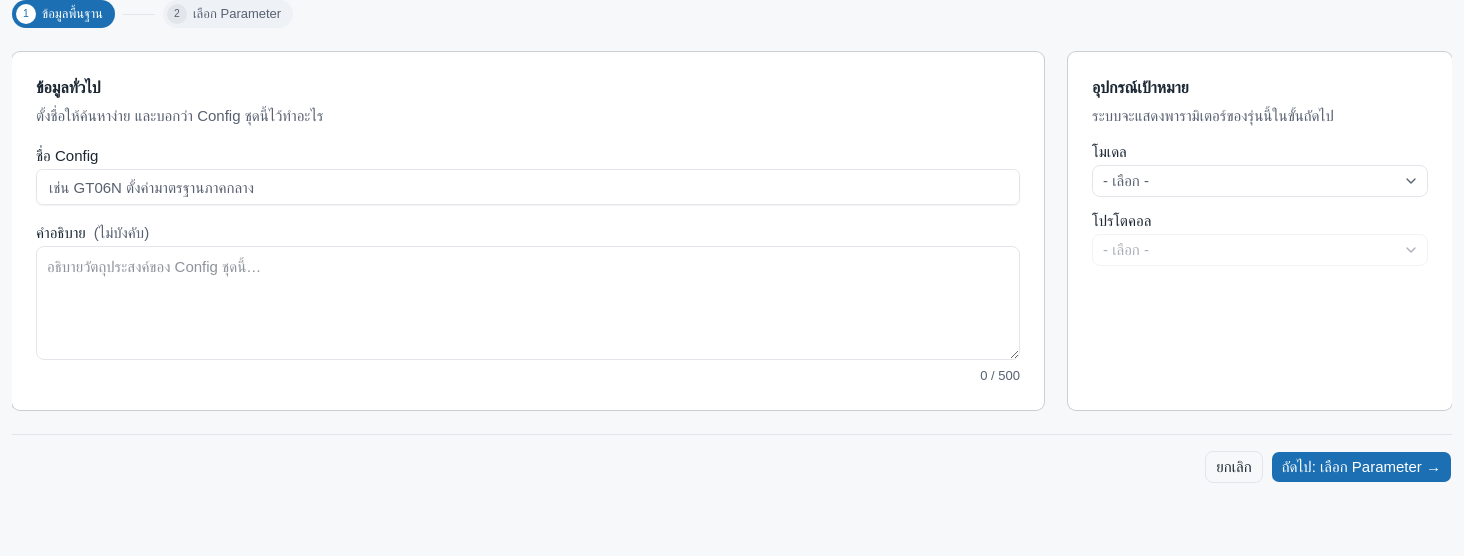
Test: ConfigWizard — json/array dataType (แก้ตามรีวิว B PR #255 ข้อ 2, รอบ 2) › json field กรอกเป็น JSON array -> block submit (json ต้องเป็น object ไม่ใช่ array)
The image size is (1464, 556).
Type "Test Config" into the field labelled "ชื่อ Config" at (528, 187), box [36,169,1020,205]
Click the dropdown named "โมเดล" at (1126, 180), box [1092,165,1428,197]
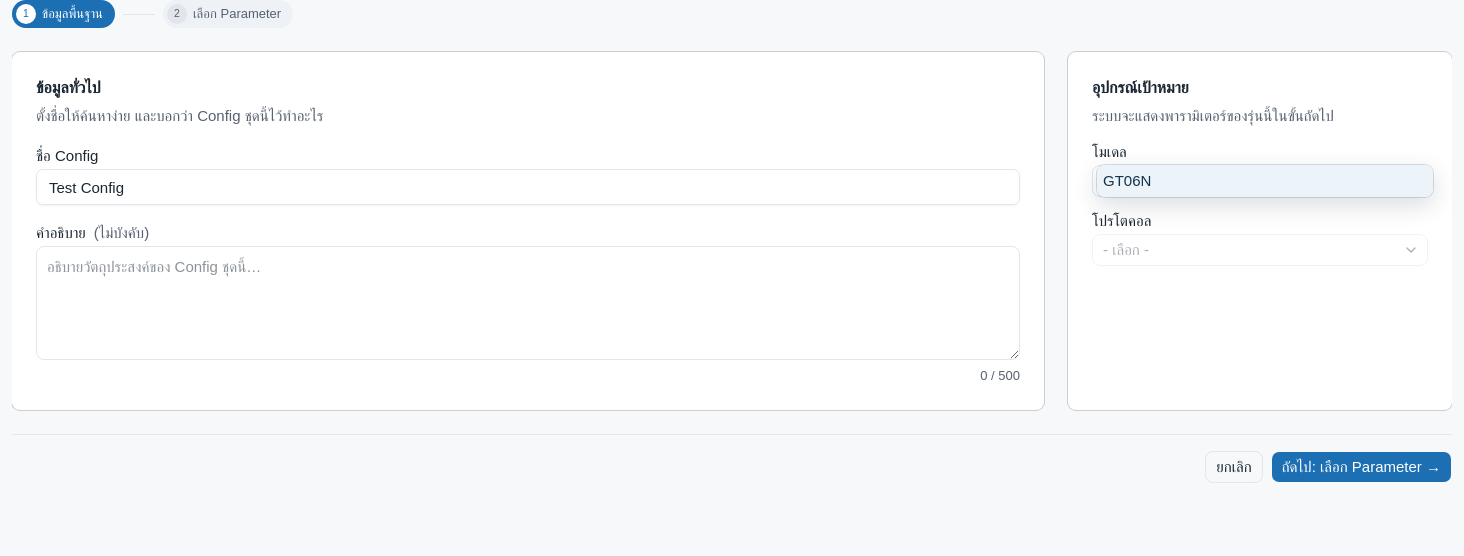
Click the option "GT06N" at (1127, 180), box [1097,165,1433,197]
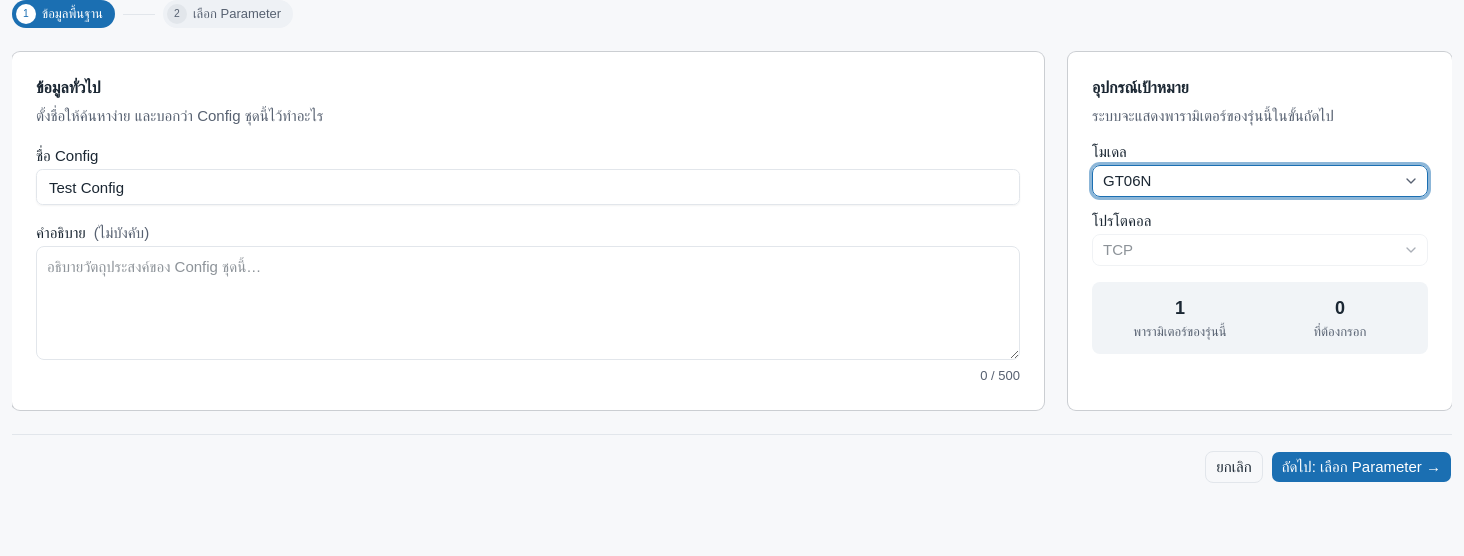
expect the dropdown named "โปรโตคอล" shows "TCP": met, box [1092,234,1428,266]
Click the button "ถัดไป: เลือก Parameter →" at (1361, 467), box [1271,451,1452,483]
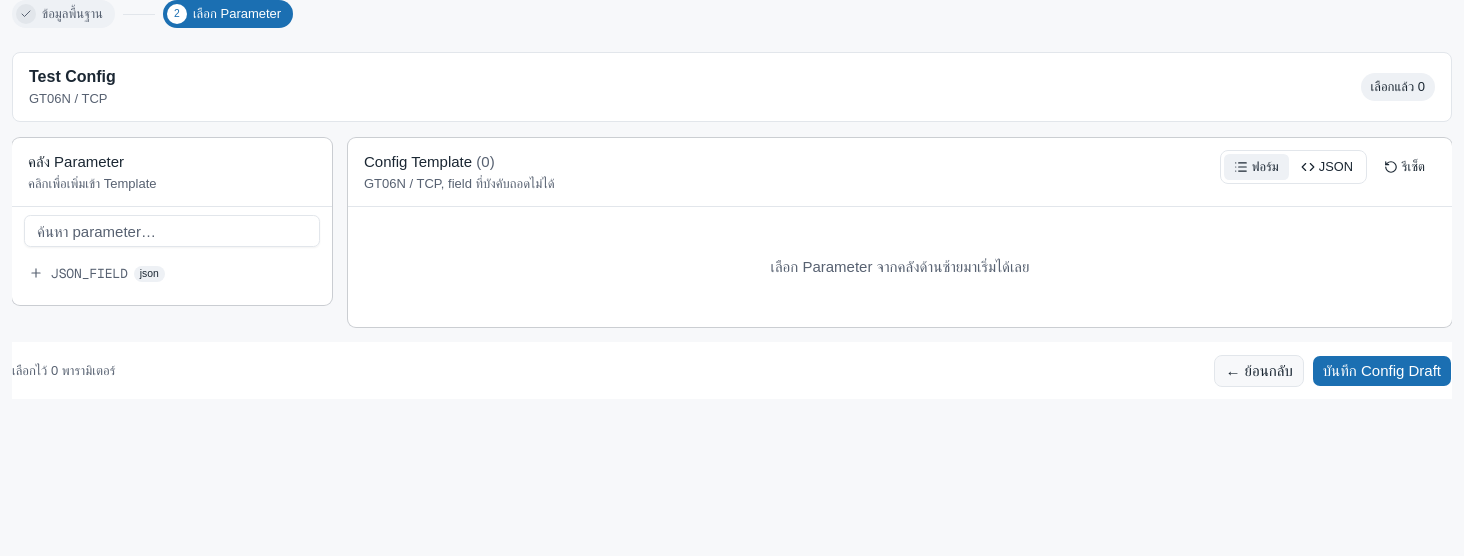
Click the button "JSON_FIELD json" at (89, 274), box [20,255,324,293]
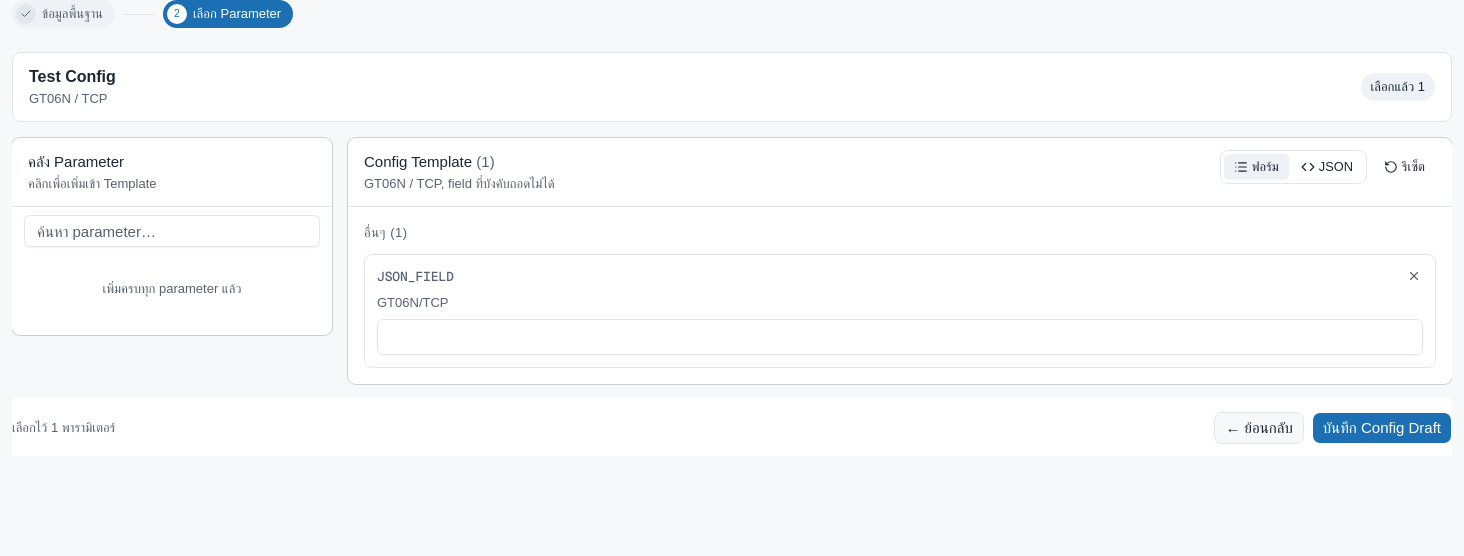
Type "[1,2,3]" into the field with id "field-JSON_FIELD" at (900, 337), box [377,319,1423,355]
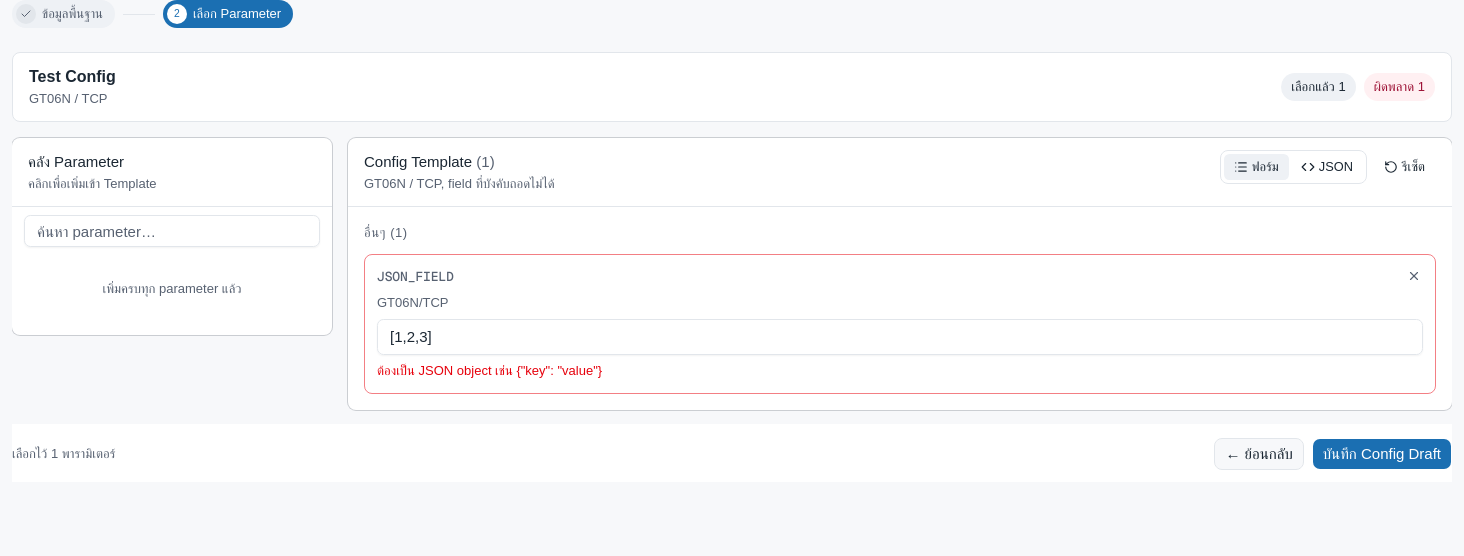
Click the button "บันทึก Config Draft" at (1382, 454), box [1312,438,1452,470]
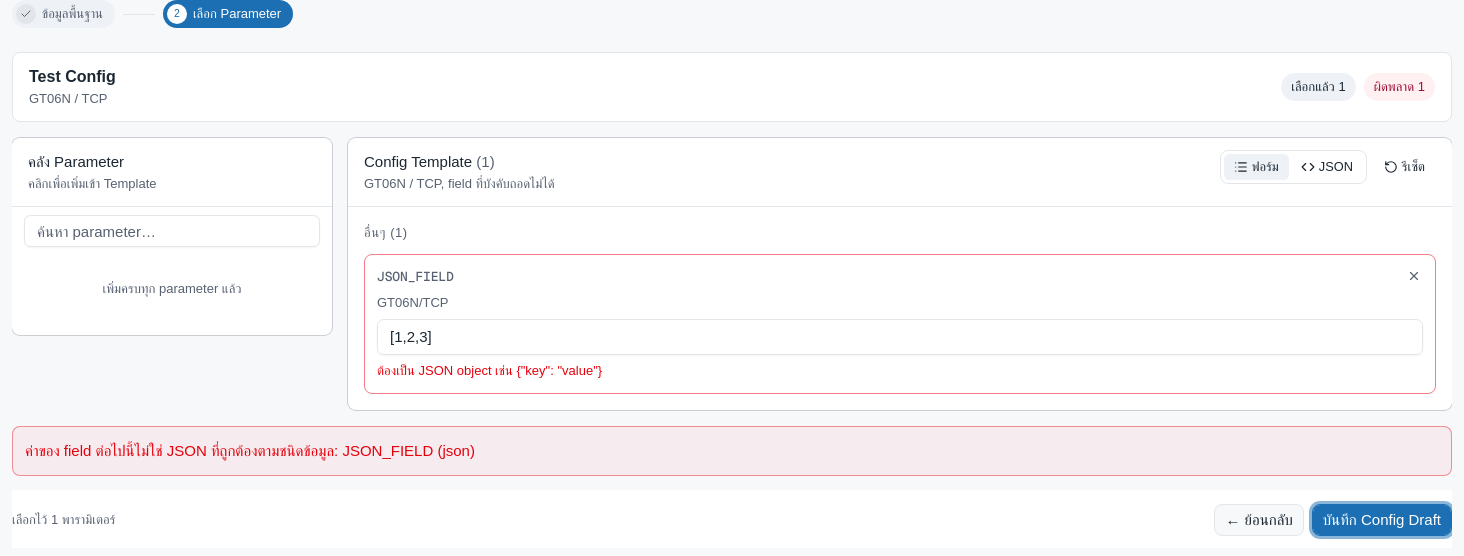
expect the text "ไม่ใช่ JSON ที่ถูกต้องตามชนิดข้อมูล" is shown: met, box [25,442,475,459]
